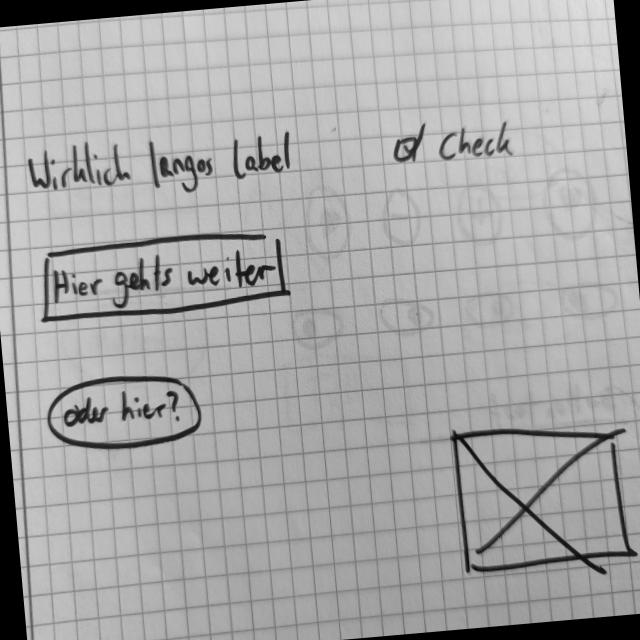button: (33, 223, 295, 327), (42, 367, 205, 457)
checkbox: (390, 112, 515, 170)
image: (447, 411, 640, 581)
label: (22, 120, 297, 208)
